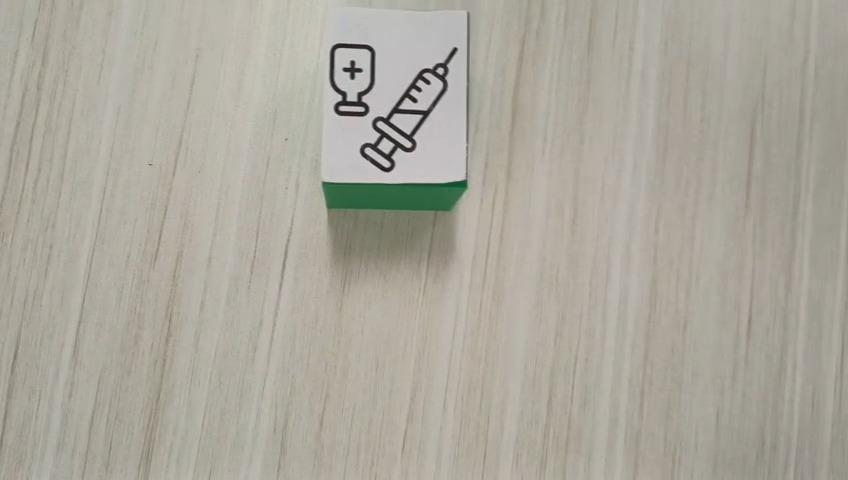antiseptic cream: (318, 6, 470, 211)
